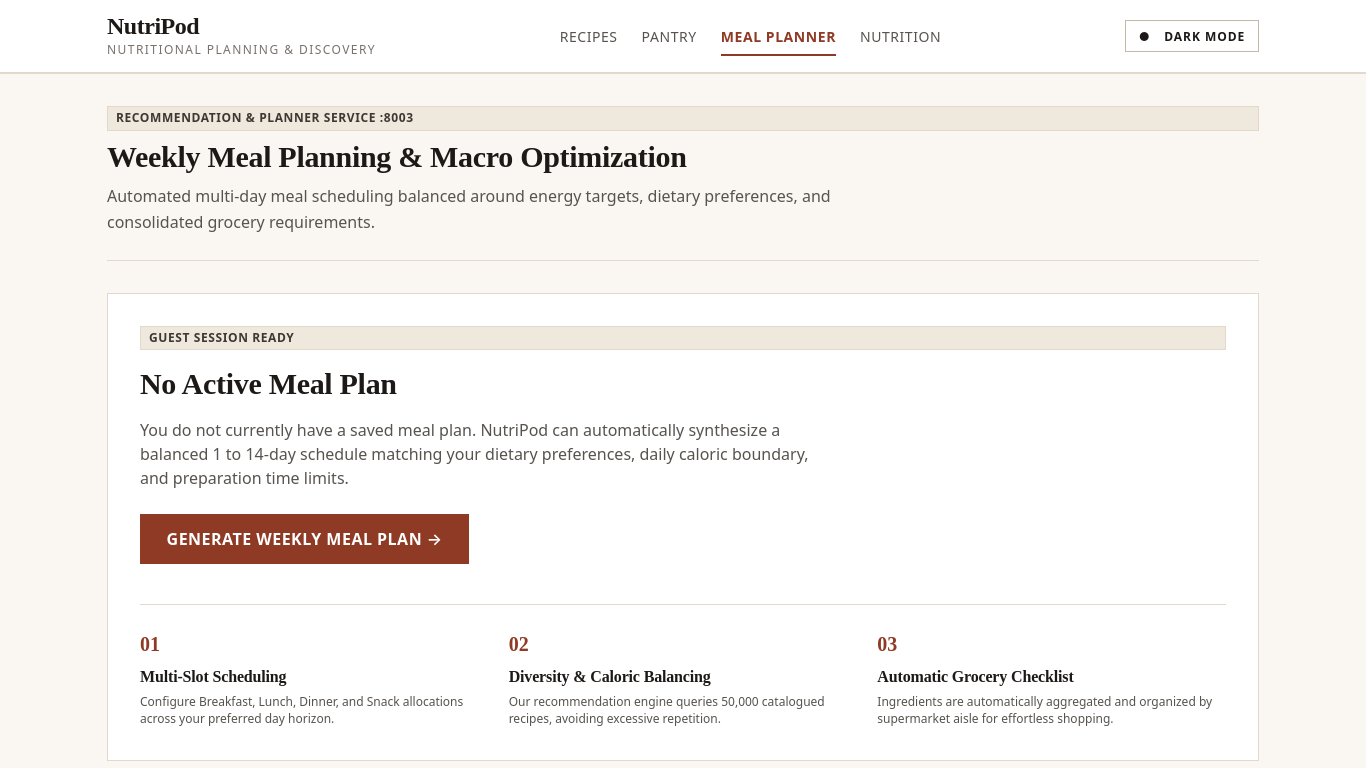
Test: Weekly Meal Planner, Cooking Progress & Shopping List (Step 05.6) › 6. transitions from empty state to generator form when CTA is clicked
Click the button with test id "create-plan-cta-btn". click: (305,539)
box: [140,514,469,564]
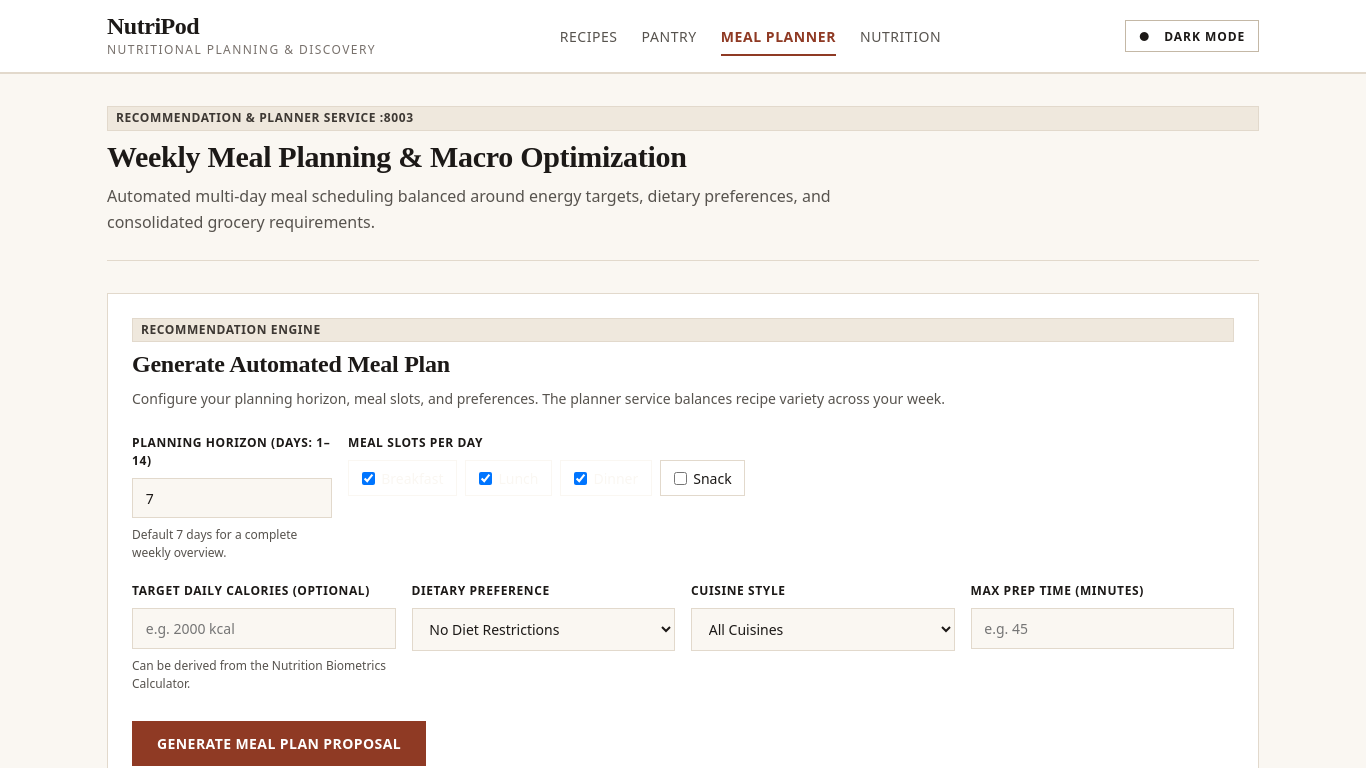
Expected: the form with test id "generator-form" is shown, [132,434,1234,766]
